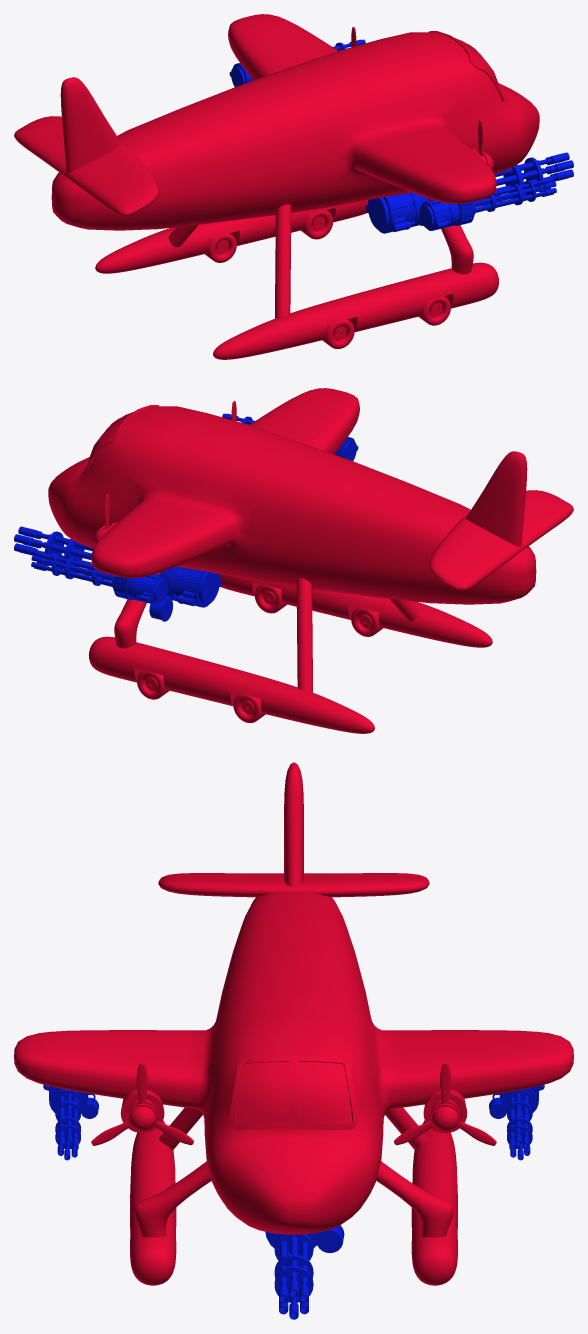
Rendered from Avion.fbx.
3 views of the same model, one above another, from view 1: azimuth 30°, elevation 25°; view 2: azimuth 150°, elevation 25°; view 3: azimuth 270°, elevation 25° (orthographic). The views are drawn at different scales.
Visible parts, largest first — view 1: Cube.002, Plane.001, Plane, Cylinder.002, Cylinder.008, Roue_02, Roue_04, Roue_01, Roue_03; view 2: Cube.002, Plane.001, Plane, Cylinder.002, Cylinder.001, Roue_04, Roue_02, Roue_03, Roue_01; view 3: Cube.002, Vitre, Helice_01.001, Cylinder.002, Vitre_Contour, Cylinder.001, Cylinder.008, Plane.
Part boxes in pixels (box(x1,y1,x2,y2)): Cube.002: box(14, 14, 539, 359); Plane.001: box(366, 192, 427, 233); Plane: box(229, 63, 474, 230); Cylinder.002: box(476, 152, 573, 201); Cylinder.008: box(473, 177, 556, 216); Roue_02: box(204, 233, 236, 262); Roue_04: box(322, 319, 354, 348); Roue_01: box(301, 210, 333, 239); Roue_03: box(418, 296, 450, 325); Cube.002: box(48, 388, 573, 733); Plane.001: box(149, 566, 221, 621); Plane: box(113, 437, 358, 604); Cylinder.002: box(14, 526, 111, 575); Cylinder.001: box(31, 551, 114, 590); Roue_04: box(351, 607, 383, 636); Roue_02: box(233, 693, 265, 722); Roue_03: box(254, 584, 286, 613); Roue_01: box(137, 670, 169, 699); Cube.002: box(14, 762, 573, 1285); Vitre: box(236, 1061, 351, 1123); Helice_01.001: box(91, 1063, 496, 1145); Cylinder.002: box(269, 1233, 318, 1319); Vitre_Contour: box(229, 1055, 358, 1130); Cylinder.001: box(503, 1088, 535, 1160); Cylinder.008: box(52, 1088, 84, 1160); Plane: box(43, 1085, 544, 1118).
Size of the model in its own units: 514 by 649 by 329.
